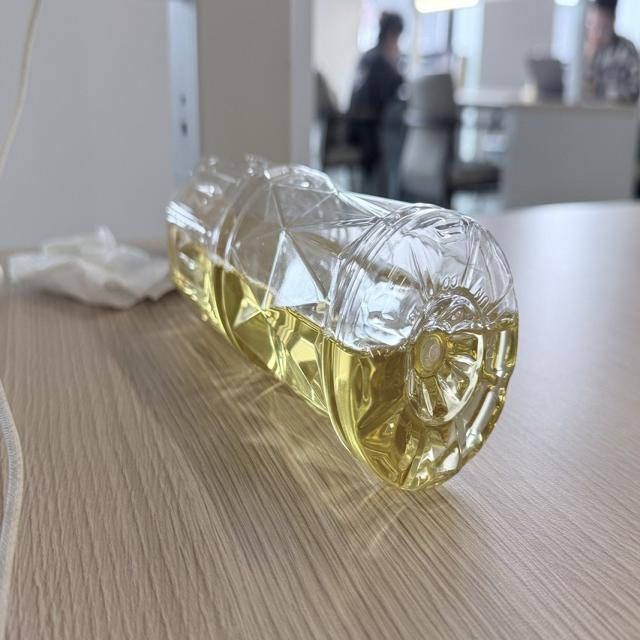medium: (167, 158, 516, 489)
